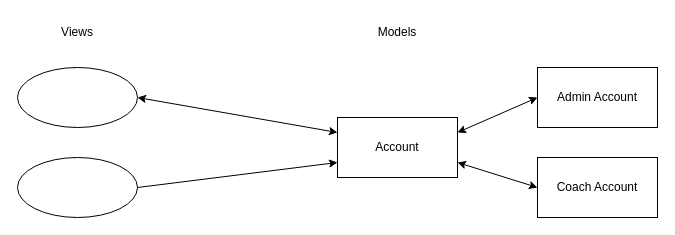
This 675x235 diagram has some shape labels left out. Here are the shapes that lost their labels. From the top down, the centre of each, then its label:
At [77,97]: "Login".
At [77,187]: "Create Account".
